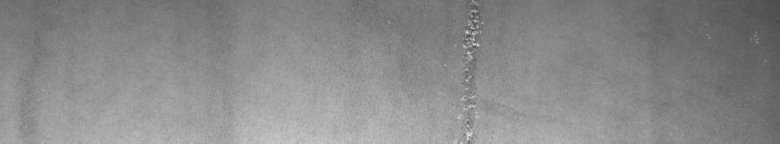hc: (457, 4, 484, 136)
